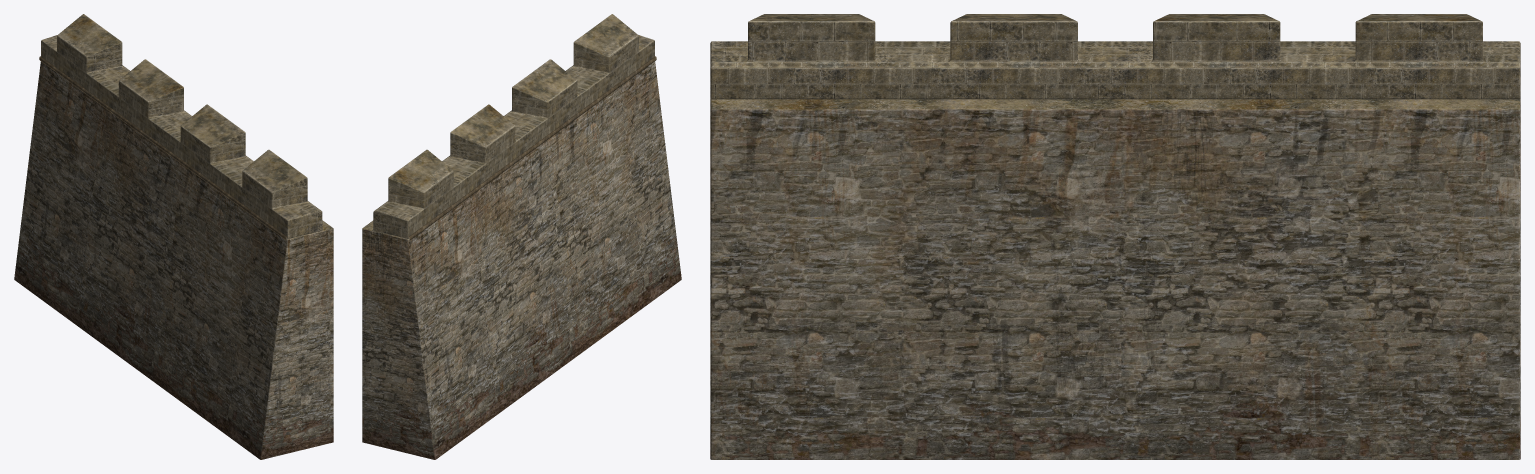
Rendered from modular_fort_01_wall_thin_straight_01.gltf.
The picture shows the model from 3 angles, left to right: view 1: azimuth 30°, elevation 25°; view 2: azimuth 150°, elevation 25°; view 3: azimuth 270°, elevation 25°; orthographic projection. The views are drawn at different scales.
Visible parts, largest first — view 1: modular_fort_01_wall_thin_straight_01__x; view 2: modular_fort_01_wall_thin_straight_01__x; view 3: modular_fort_01_wall_thin_straight_01__x.
Boxes of the visible parts, box(x1,y1,x2,y2) form: modular_fort_01_wall_thin_straight_01__x: box(14, 14, 333, 459); modular_fort_01_wall_thin_straight_01__x: box(362, 14, 681, 459); modular_fort_01_wall_thin_straight_01__x: box(710, 14, 1520, 459).
Size of the model in its own units: 2.55 by 8.61 by 14.82.
Materials: 2 (2 with a texture image).
